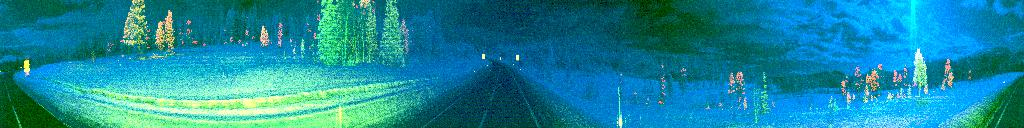pole: (615, 84, 625, 128), (336, 94, 346, 128)
